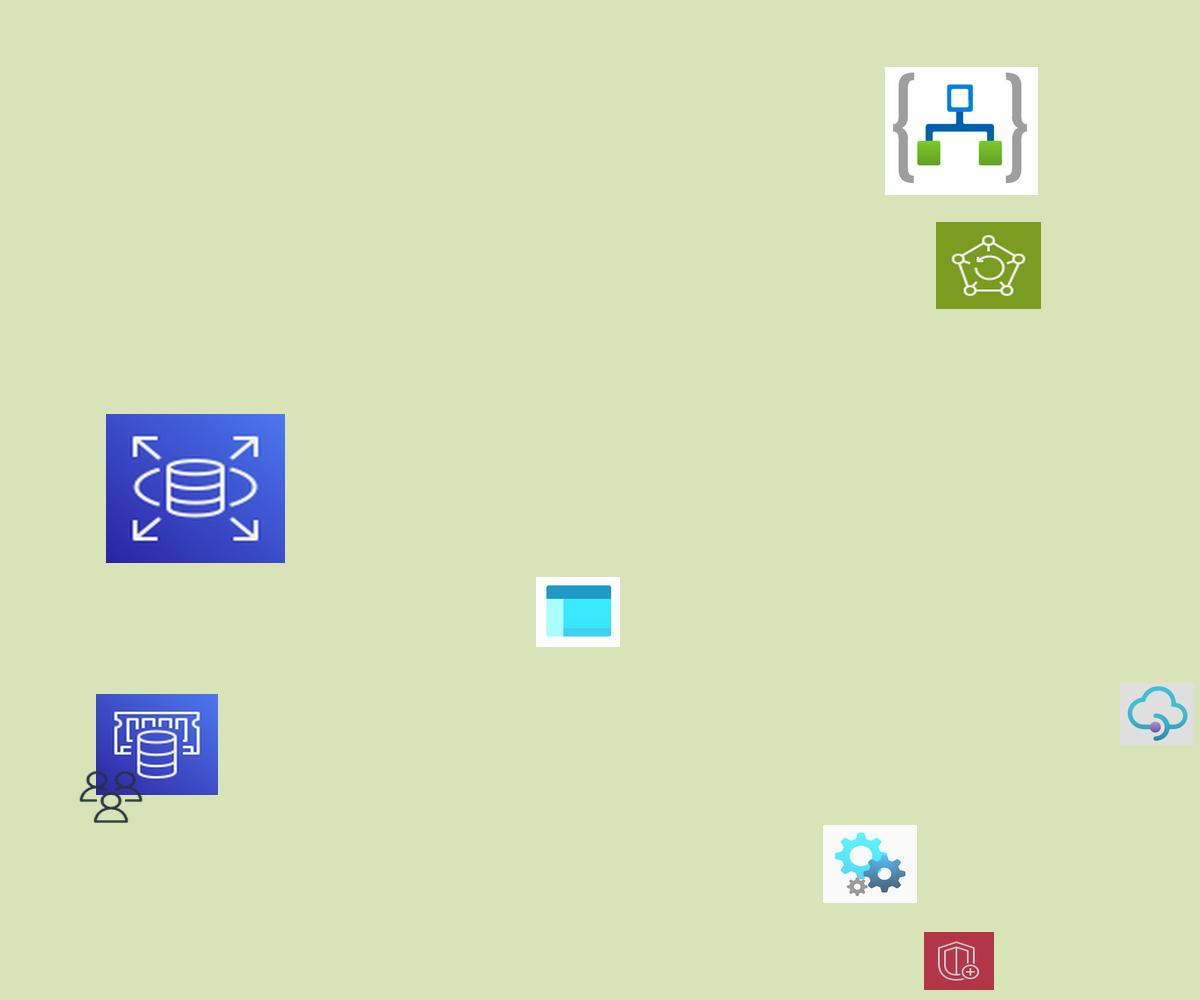AWS-Backup: (936, 222, 1041, 309)
AWS-ElastiCache: (96, 694, 218, 795)
AWS-RDS: (106, 414, 285, 563)
AWS-Res_Users: (77, 769, 145, 825)
AWS-Shield: (924, 932, 994, 990)
Azure_api: (823, 825, 917, 903)
Azure_api_gateway: (1120, 683, 1194, 745)
Azure_integration-204-Logic-Apps: (885, 67, 1038, 195)
Azure_management-portal: (536, 577, 620, 647)
